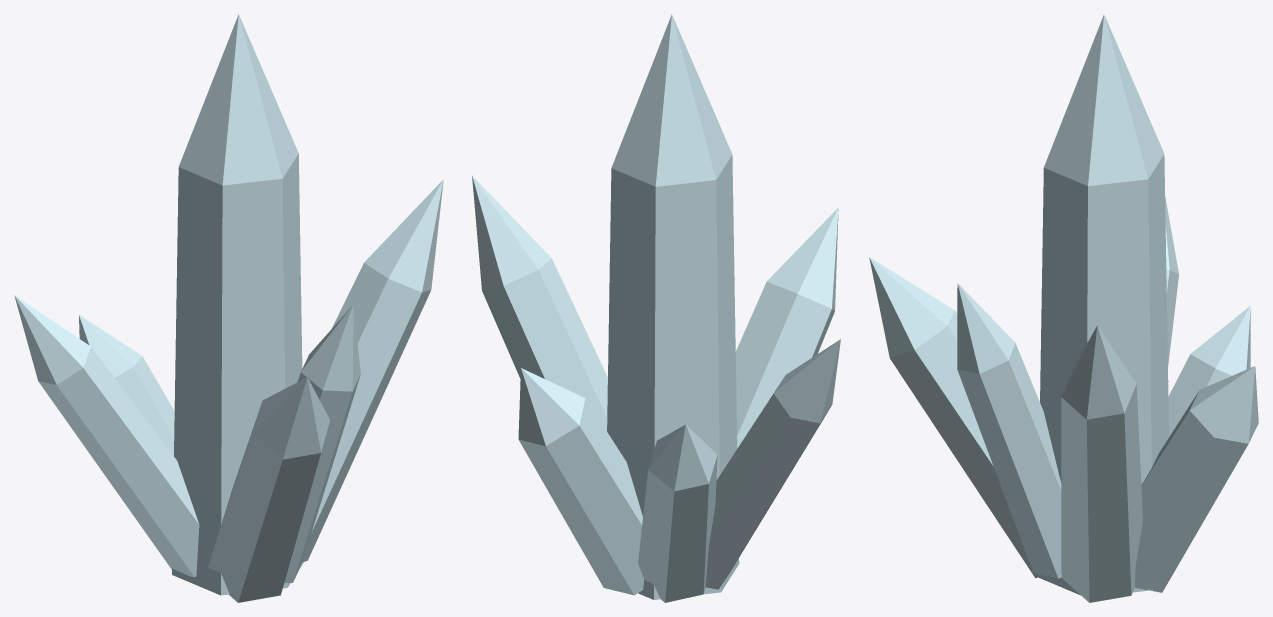
Rendered from IceCrystals.fbx.
3 renders of one model, left to right at view 1: azimuth 30°, elevation 25°; view 2: azimuth 150°, elevation 25°; view 3: azimuth 270°, elevation 25°, orthographic.
Parts seen in each view (by area): view 1: IceCrystals; view 2: IceCrystals; view 3: IceCrystals.
Boxes of the visible parts, x1,y1,x2,y2 form: IceCrystals: (14, 14, 443, 602); IceCrystals: (472, 14, 840, 602); IceCrystals: (869, 14, 1258, 602).
Size of the model in its own units: 0.7975 by 1.11 by 0.674.
